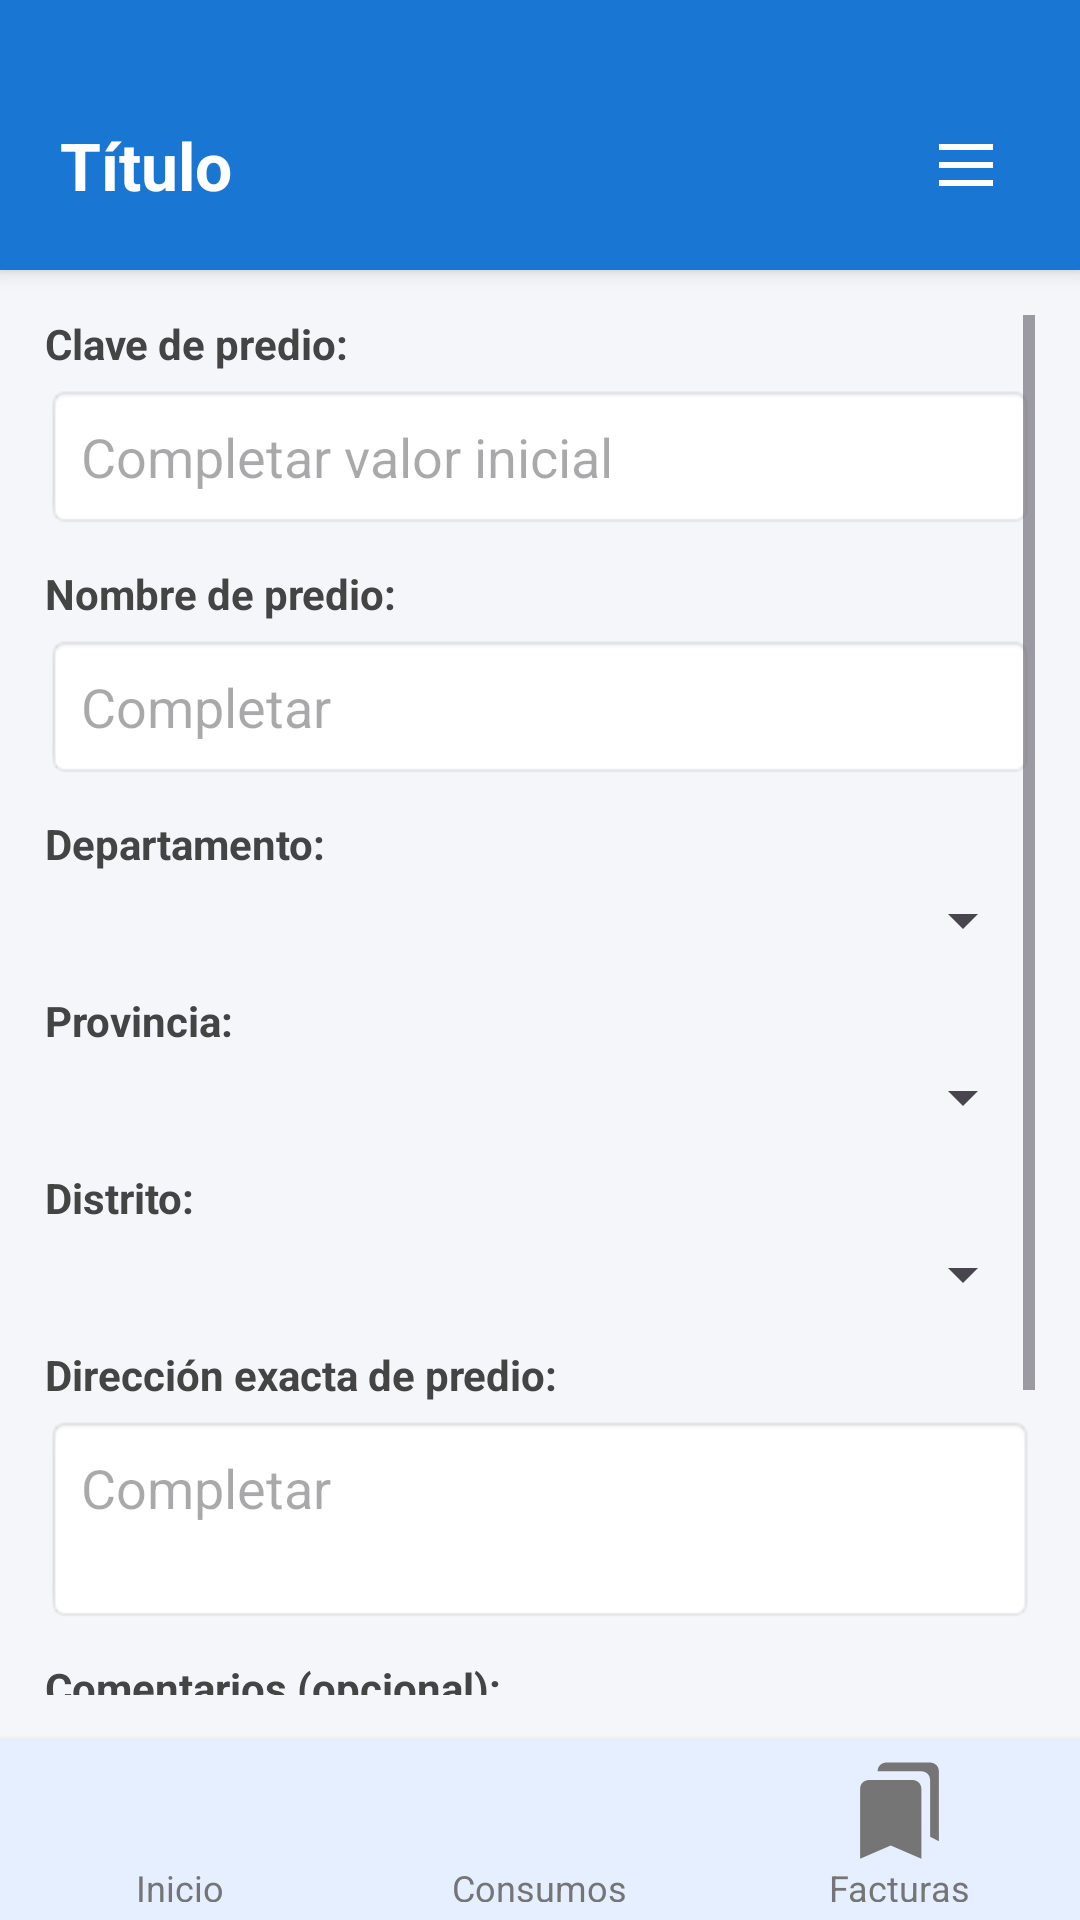

Where to tap for icons on this 1080×1920 app screen, as [x,y]:
Menú principal: [966,165]
